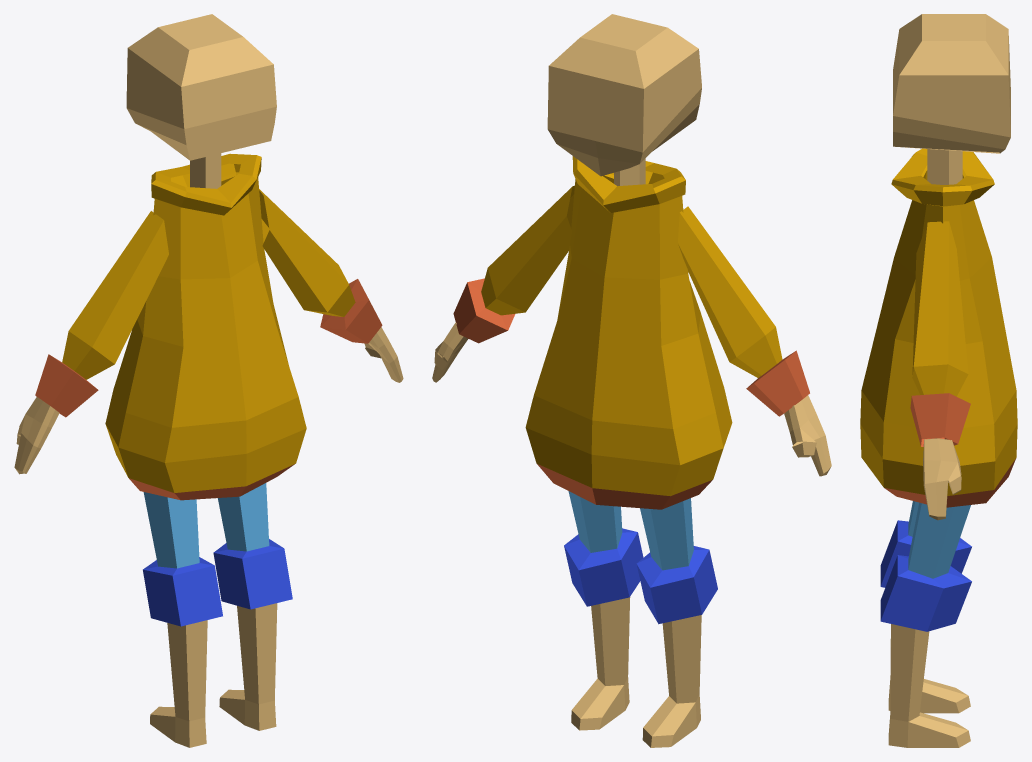
File: girl-tutorial.fbx
3 renders of one model, left to right at view 1: azimuth 30°, elevation 25°; view 2: azimuth 150°, elevation 25°; view 3: azimuth 270°, elevation 25°, orthographic. The views are drawn at different scales.
Visible parts, largest first — view 1: Cube, Cylinder, Cylinder.001, Cube.001, Cylinder.002; view 2: Cube, Cylinder, Cylinder.001, Cube.001; view 3: Cube, Cylinder, Cube.001, Cylinder.001, Cylinder.002.
Part boxes in pixels (x1,y1,x2,y2): Cube: (105, 153, 306, 500); Cylinder: (143, 483, 292, 747); Cylinder.001: (14, 189, 403, 474); Cube.001: (126, 14, 276, 160); Cylinder.002: (190, 153, 221, 188); Cube: (525, 156, 732, 509); Cylinder: (564, 491, 717, 747); Cylinder.001: (432, 185, 831, 476); Cube.001: (547, 14, 701, 176); Cube: (860, 148, 1017, 507); Cylinder: (880, 501, 971, 747); Cube.001: (893, 14, 1010, 153); Cylinder.001: (910, 221, 970, 520); Cylinder.002: (927, 149, 962, 184).
Bounding box in the file's own units: 230 × 393 × 80.41.
